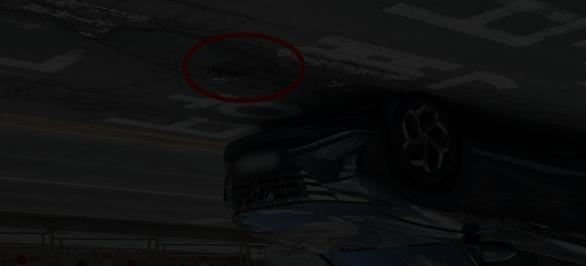pothole: (206, 48, 269, 90)
